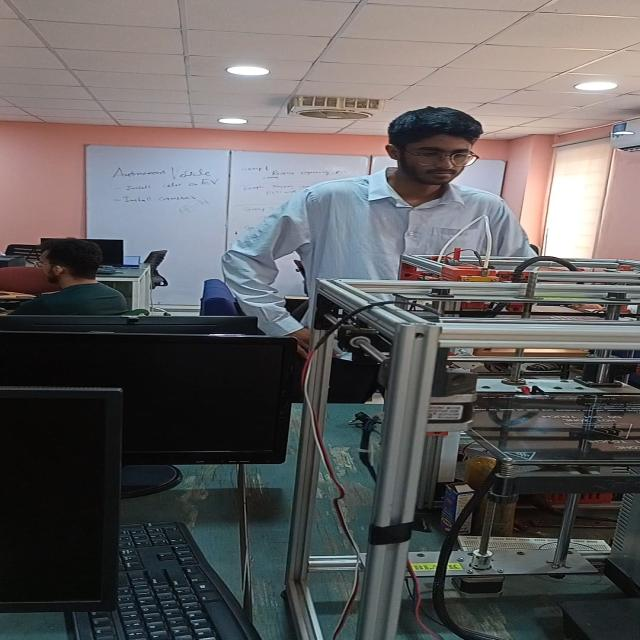dress: (222, 168, 548, 332)
glasses: (387, 140, 489, 168)
